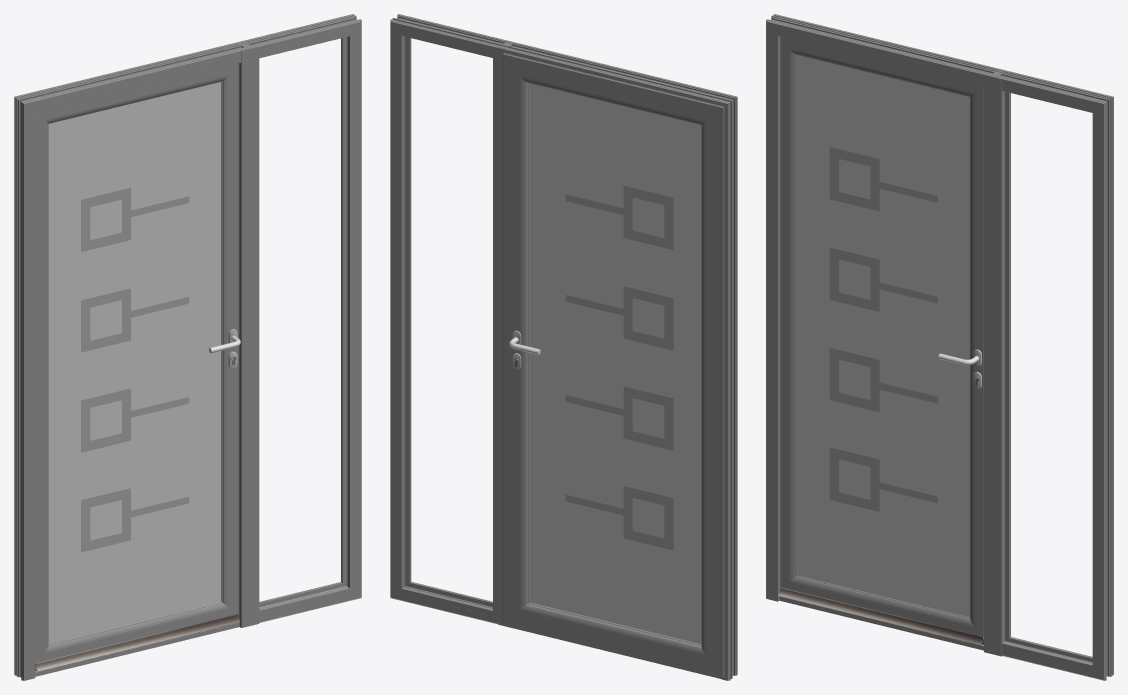
3 renders of one model, left to right at view 1: azimuth 30°, elevation 25°; view 2: azimuth 150°, elevation 25°; view 3: azimuth 330°, elevation 25°, orthographic.
Parts seen in each view (by area): view 1: fosco_22, aroFixo, aroMovel, montanteCentral, transparente_22, bite, borracha, escovas, rodaPe; view 2: fosco_22, aroMovel, aroFixo, bite, transparente_22, montanteCentral, borracha, rodaPe; view 3: fosco_22, aroFixo, aroMovel, montanteCentral, transparente_22, bite, escovas, borracha, rodaPe.
Boxes of the visible parts, box(x1,y1,x2,y2) form: fosco_22: box(48, 82, 221, 643); aroFixo: box(14, 14, 361, 680); aroMovel: box(35, 63, 238, 663); montanteCentral: box(238, 42, 259, 627); transparente_22: box(81, 188, 189, 552); bite: box(259, 37, 346, 607); borracha: box(259, 37, 345, 606); escovas: box(35, 614, 240, 671); rodaPe: box(35, 622, 239, 676); fosco_22: box(529, 83, 701, 644); aroMovel: box(503, 53, 724, 677); aroFixo: box(390, 14, 737, 680); bite: box(396, 29, 498, 617); transparente_22: box(565, 186, 673, 550); montanteCentral: box(498, 40, 518, 626); borracha: box(404, 36, 492, 608); rodaPe: box(505, 624, 721, 679); fosco_22: box(797, 55, 969, 617); aroFixo: box(766, 14, 1113, 680); aroMovel: box(780, 37, 983, 638); montanteCentral: box(984, 70, 1004, 656); transparente_22: box(829, 147, 937, 511); bite: box(1005, 91, 1092, 661); escovas: box(778, 587, 983, 645); borracha: box(1006, 92, 1092, 660); rodaPe: box(779, 596, 983, 650).
Bounding box in the file's own units: 1320 × 2149 × 185.
10 materials, 4 textured.
